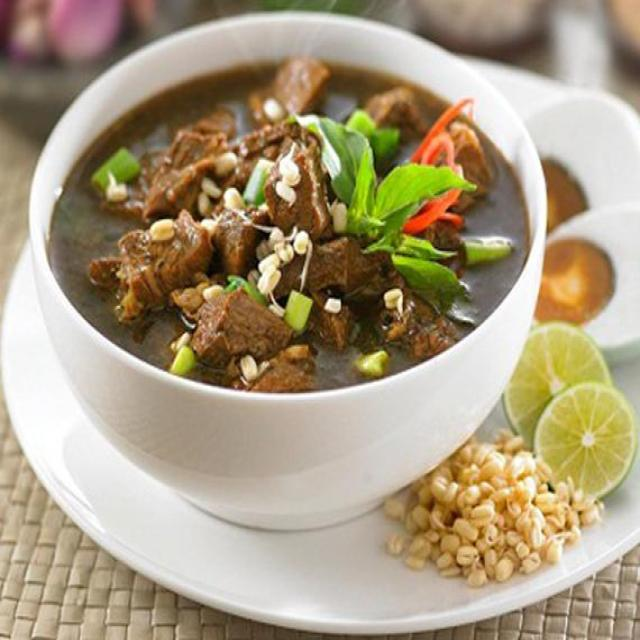Rawon: (68, 71, 526, 379)
